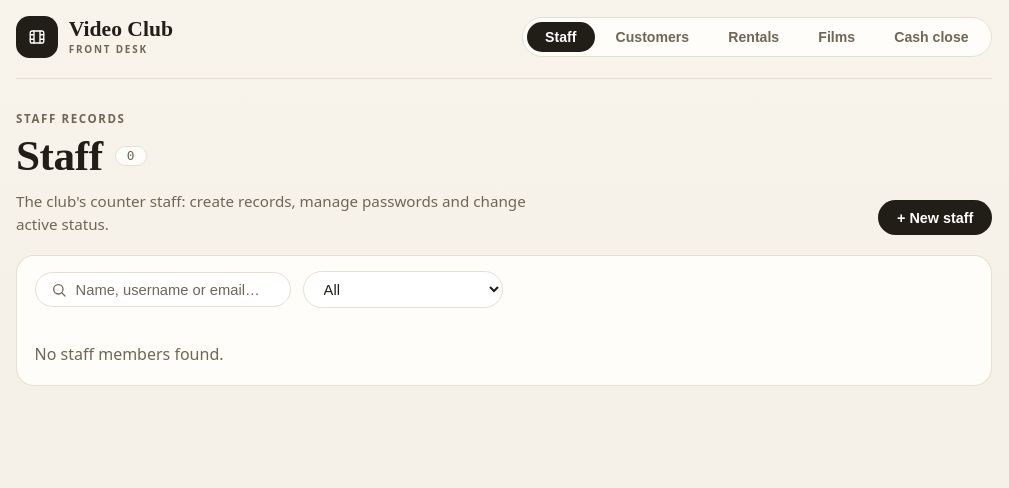
it: Customers view › lists the members after switching to the Customers tab
This screenshot has width=1009, height=488.
Click the tab "Customers" at (652, 37), box [597,22,708,52]
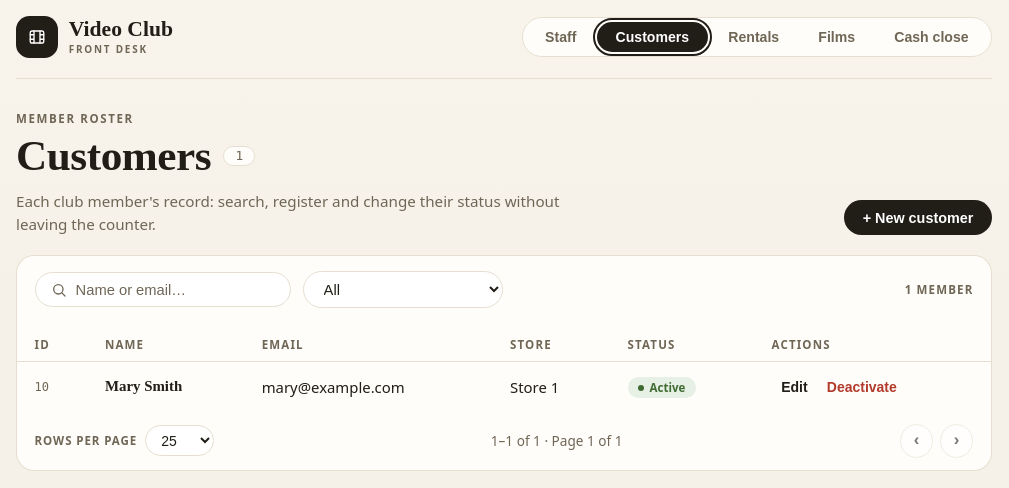
Expected: the text "Active" is shown, [628,377,696,398]
Expected: the text "Mary Smith" is shown, [87,361,244,411]
